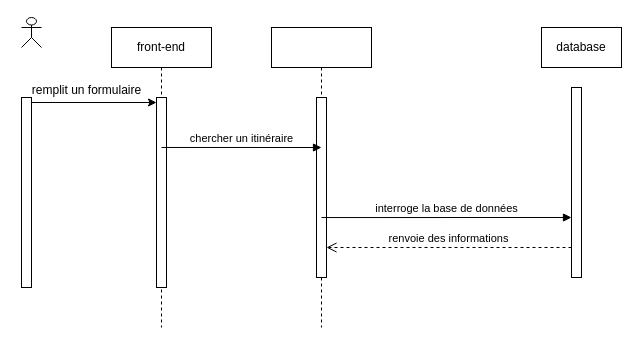
This 639x345 diagram has some shape labels left out. Here are the shapes that lost their labels. From the top down, the box of each, then its label:
(20, 16, 42, 48): Actor
(270, 26, 372, 328): back-end
